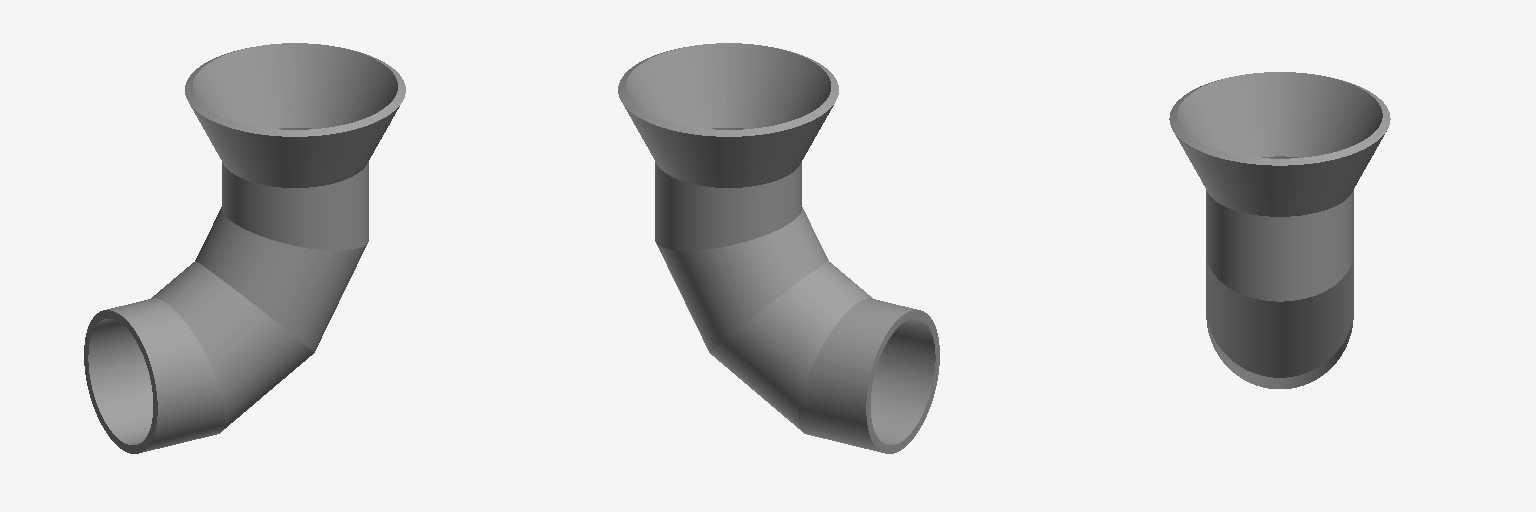
3 renders of one model, left to right at view 1: azimuth 30°, elevation 25°; view 2: azimuth 150°, elevation 25°; view 3: azimuth 270°, elevation 25°, orthographic.
Parts seen in each view (by area): view 1: Elbow_Joint.001; view 2: Elbow_Joint.001; view 3: Elbow_Joint.001.
Boxes of the visible parts, x1=… form: Elbow_Joint.001: x1=84, y1=43, x2=405, y2=453; Elbow_Joint.001: x1=618, y1=43, x2=939, y2=453; Elbow_Joint.001: x1=1169, y1=72, x2=1390, y2=388.
Size of the model in its own units: 4.23 by 4.79 by 3.